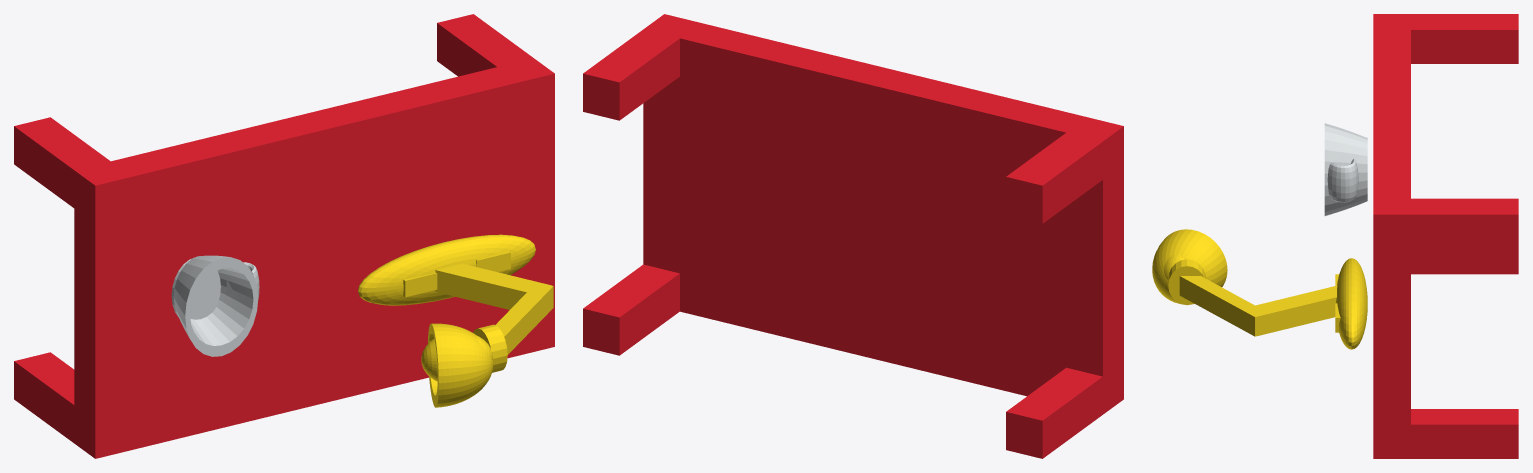
The model's file is tinker.obj.
The picture shows the model from 3 angles, left to right: view 1: azimuth 30°, elevation 25°; view 2: azimuth 150°, elevation 25°; view 3: azimuth 270°, elevation 25°; orthographic projection. The views are drawn at different scales.
Visible parts, largest first — view 1: group_0_15277357, group_0_16768282, group_0_14541540; view 2: group_0_15277357; view 3: group_0_15277357, group_0_16768282, group_0_14541540.
Boxes of the visible parts, x1,y1,x2,y2 form: group_0_15277357: [14, 14, 554, 458]; group_0_16768282: [358, 234, 553, 407]; group_0_14541540: [171, 255, 259, 356]; group_0_15277357: [583, 14, 1123, 458]; group_0_15277357: [1373, 14, 1518, 458]; group_0_16768282: [1152, 229, 1367, 349]; group_0_14541540: [1324, 123, 1367, 215].
Bounding box in the file's own units: 88 × 50 × 67.98.
